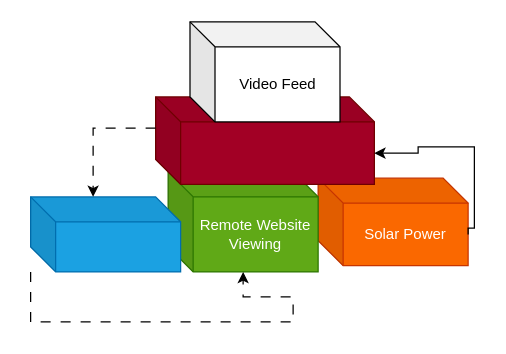
The diagram is 506 pixels wide and 354 high, and some of its shapes have lost their labels. The shapes that lost their labels are listed below. From the top down, each one's centre as x and y in pixels, then its label:
At (x=264, y=140): "Deep Learning Inference".
At (x=105, y=234): "Cloud Server Data Collection".
